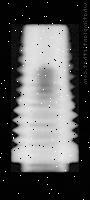Sterngold: (11, 24, 79, 172)
